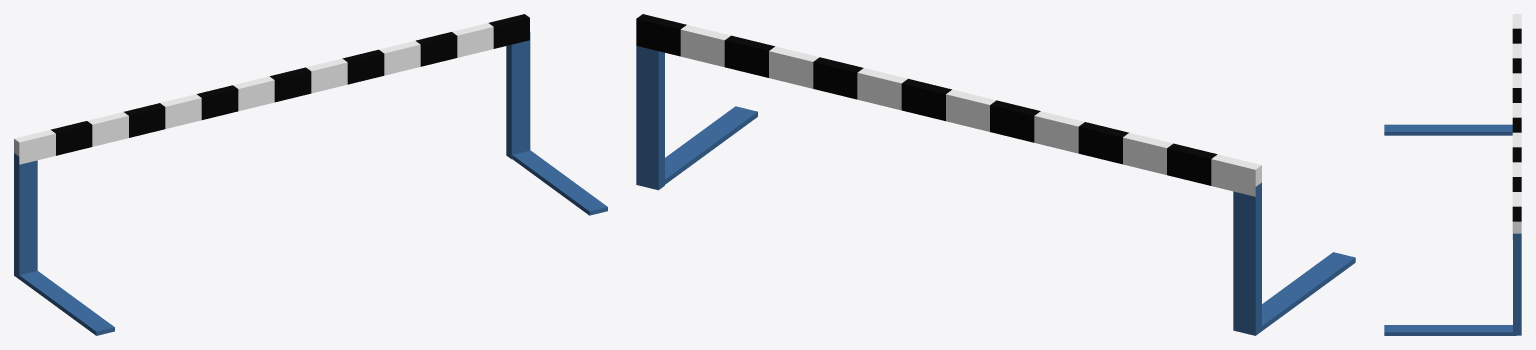
Rendered from bara02.fbx.
3 views of the same model, side by side, from view 1: azimuth 30°, elevation 25°; view 2: azimuth 150°, elevation 25°; view 3: azimuth 270°, elevation 25° (orthographic). The views are drawn at different scales.
Parts seen in each view (by area): view 1: bara; view 2: bara; view 3: bara.
Part boxes in pixels (bbox=[...]): bara: bbox=[14, 14, 607, 335]; bara: bbox=[636, 14, 1355, 335]; bara: bbox=[1384, 14, 1521, 335].
Size of the model in its own units: 397 by 102 by 111.
